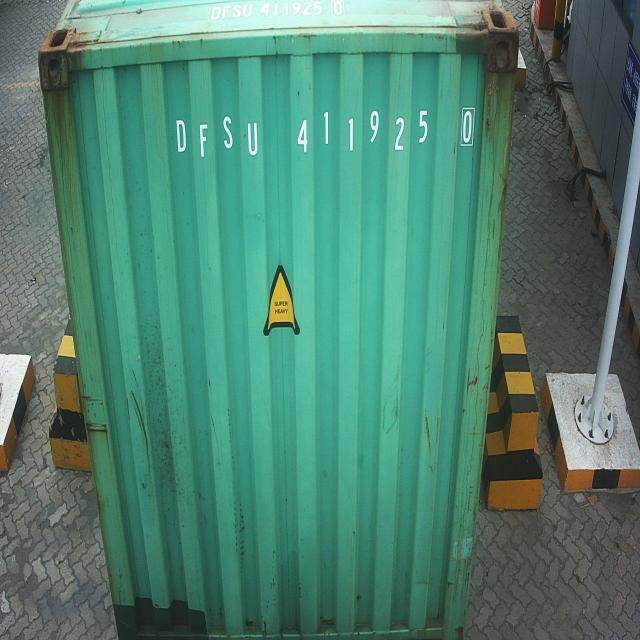container-number: (176, 104, 478, 160)
